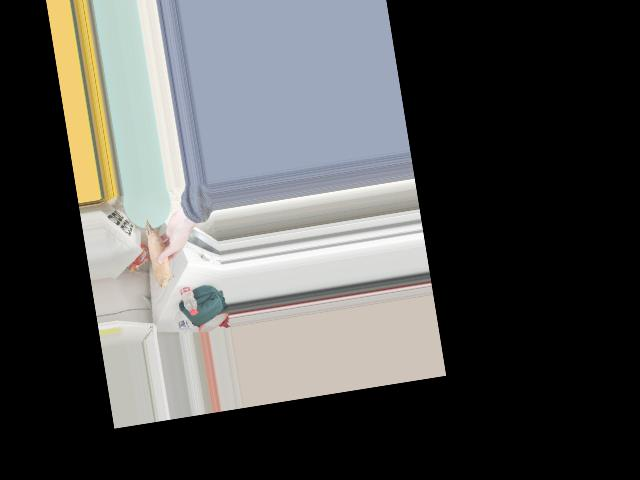sweet_potato: (144, 218, 176, 282)
